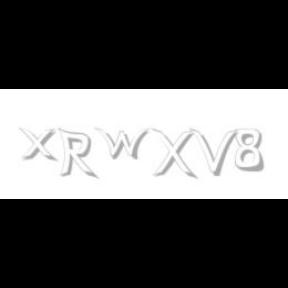8: (234, 128, 264, 172)
R: (57, 128, 95, 180)
V: (190, 128, 238, 176)
X: (151, 128, 195, 180)
w: (94, 128, 154, 160)
x: (19, 128, 61, 162)
